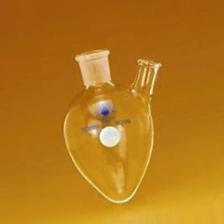Pear shaped flask: (55, 49, 160, 209)
